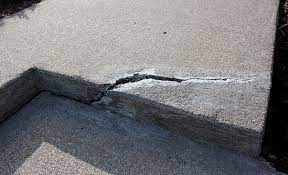crack: (89, 71, 251, 103)
